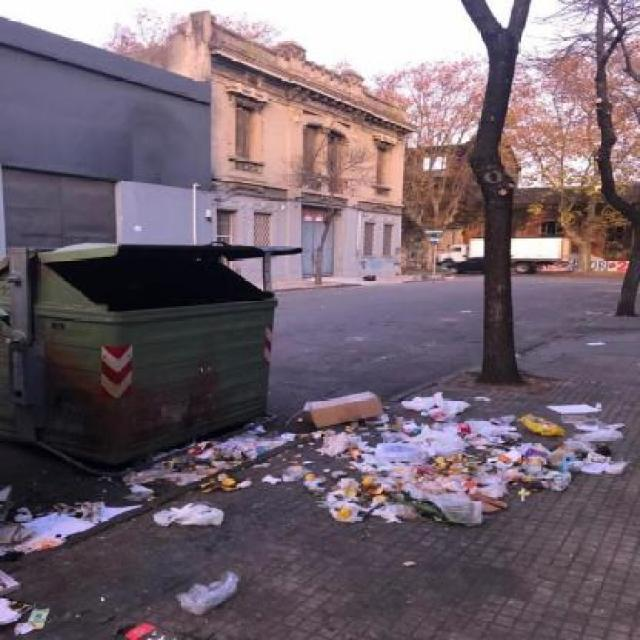garbage: (260, 373, 628, 532), (156, 434, 313, 640), (0, 476, 195, 639)
